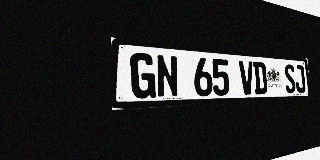5: (212, 58, 230, 96)
6: (193, 57, 213, 97)
D: (253, 62, 268, 94)
G: (130, 52, 156, 99)
J: (294, 65, 306, 93)
N: (156, 54, 179, 98)
S: (284, 64, 296, 93)
V: (239, 60, 255, 95)
